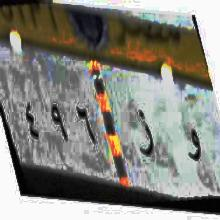4: (21, 93, 43, 150)
6: (76, 90, 97, 160)
9: (48, 100, 71, 146)
waw: (186, 119, 202, 176)
zay: (134, 100, 156, 168)
